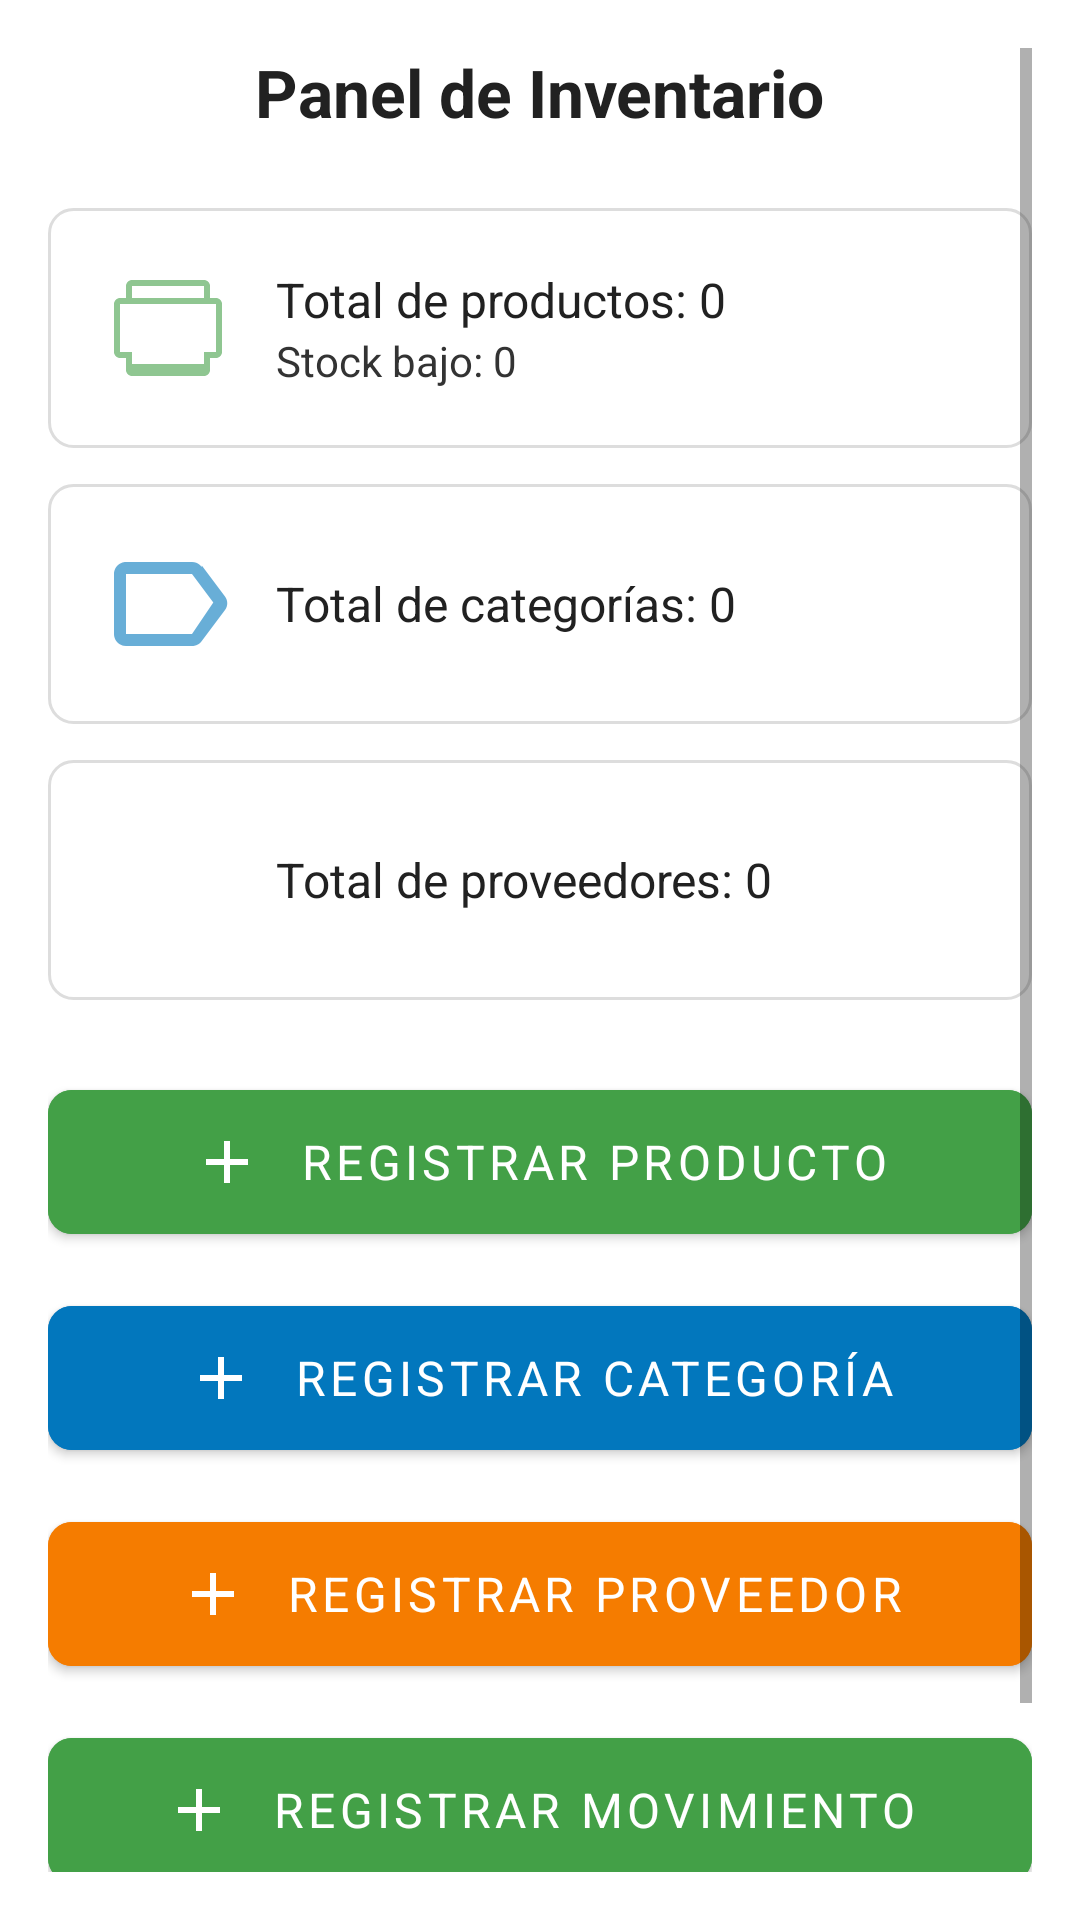

Point at icon controls on the screen. Image size 1080x1920, points as point (x, y).
categorias: point (171, 604)
